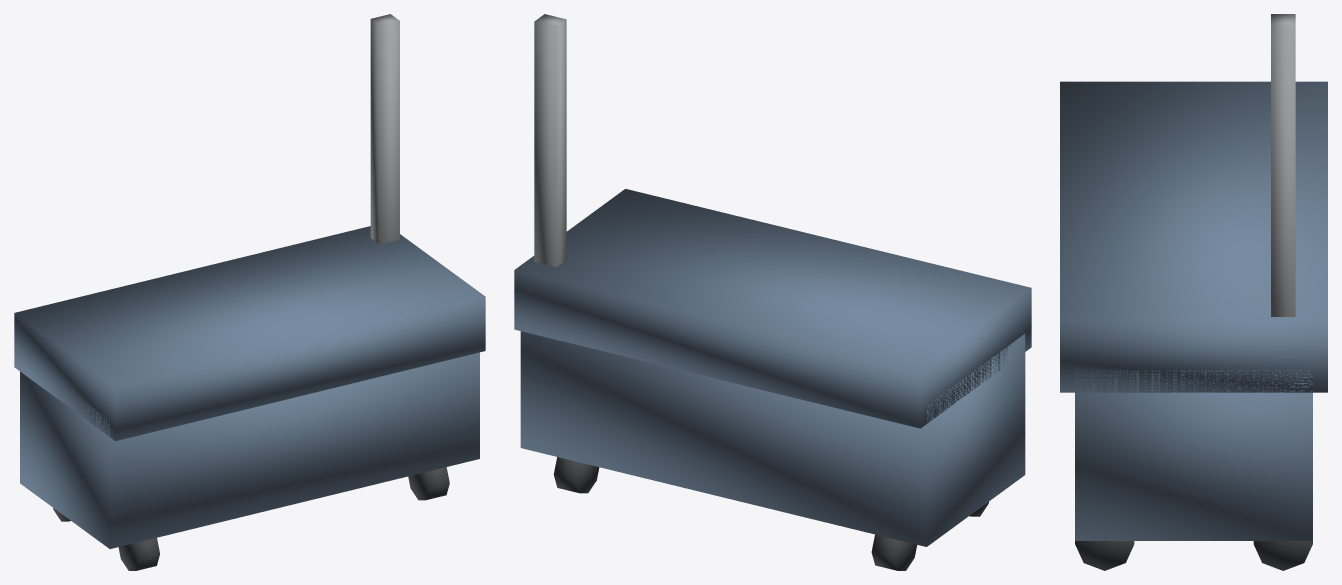
Rendered from cleaning_cart__wide.glb.
3 views of the same model, side by side, from view 1: azimuth 30°, elevation 25°; view 2: azimuth 150°, elevation 25°; view 3: azimuth 270°, elevation 25° (orthographic). The views are drawn at different scales.
Visible parts, largest first — view 1: world; view 2: world; view 3: world.
Part boxes in pixels (<box>): world: <box>14,14,485,570</box>; world: <box>514,14,1031,570</box>; world: <box>1060,14,1327,570</box>.
Size of the model in its own units: 1.14 by 1.25 by 0.54.
